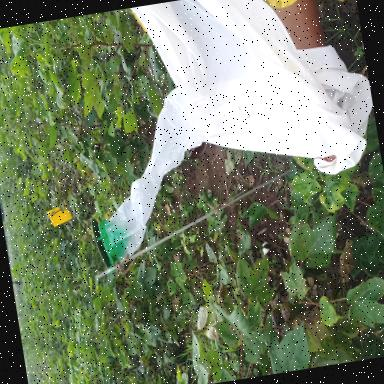pbw: (247, 114, 251, 118), (238, 104, 240, 110)
